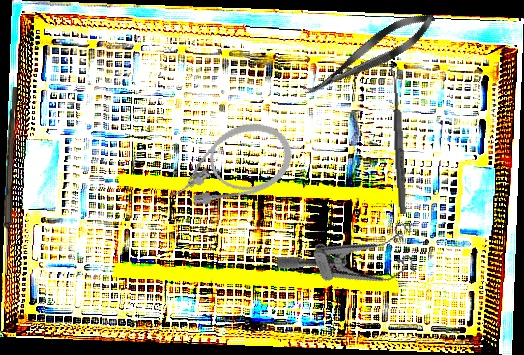Cannula: (156, 112, 301, 219)
Micro Scissor: (297, 3, 442, 107)
Speculum: (275, 210, 429, 316)
Surgical Spoon: (1, 86, 18, 275), (390, 66, 408, 215)
